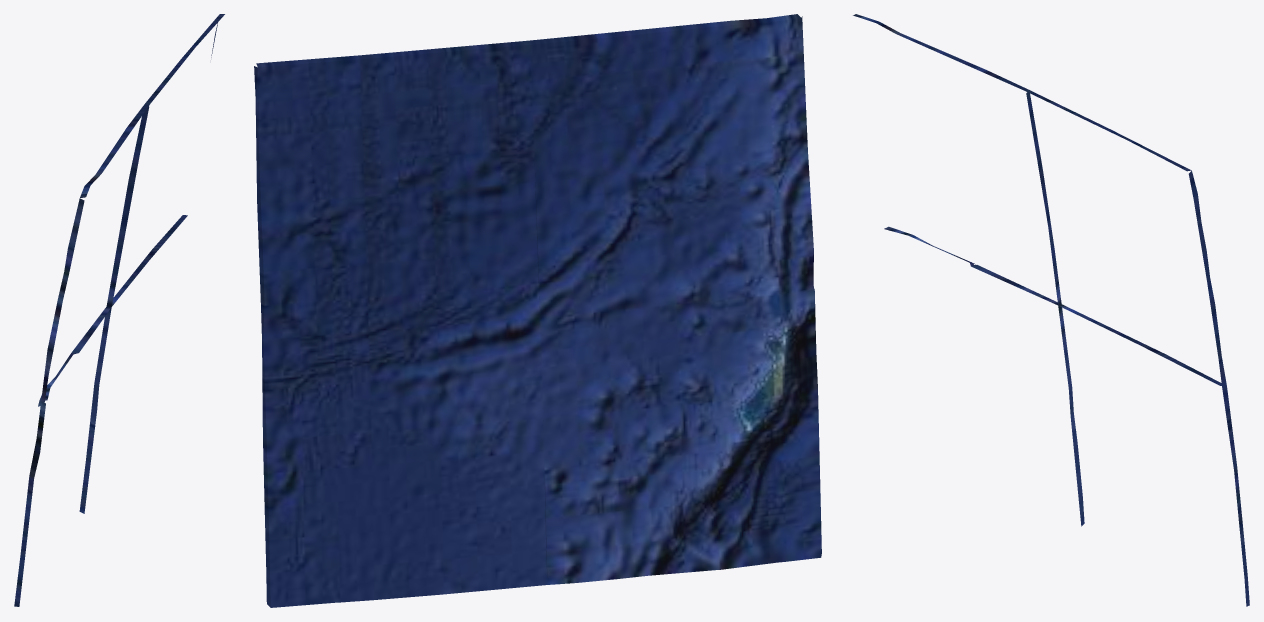
The picture shows the model from 3 angles, left to right: view 1: azimuth 30°, elevation 25°; view 2: azimuth 150°, elevation 25°; view 3: azimuth 270°, elevation 25°; orthographic projection. The views are drawn at different scales.
Size of the model in its own units: 526480 by 623370 by 492078.
1 material, 1 textured.
